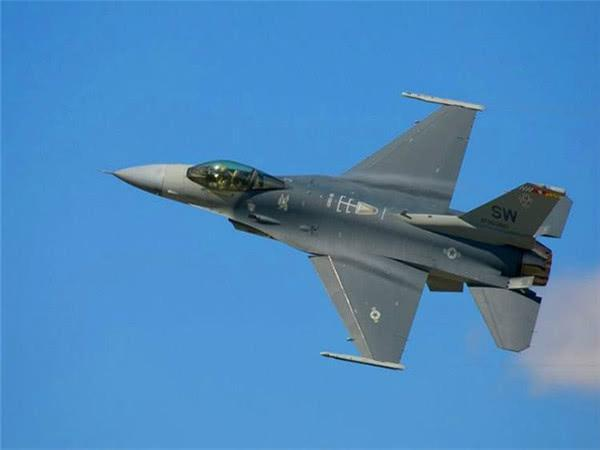airplane: (102, 88, 575, 369)
